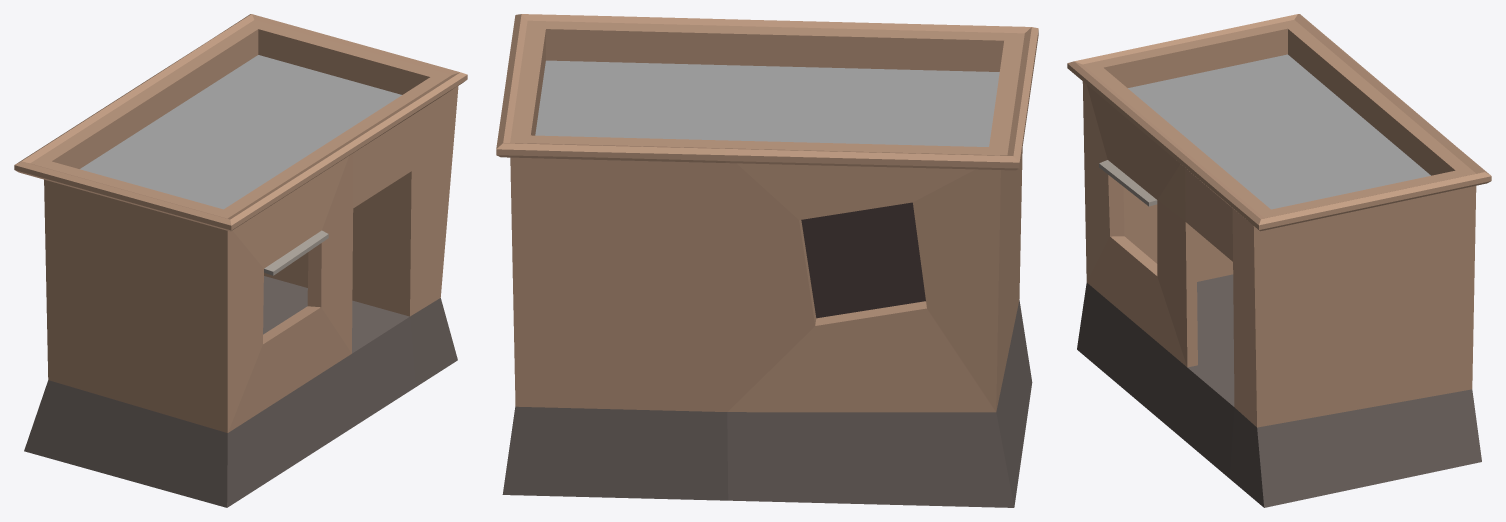
Rendered from house3.fbx.
The picture shows the model from 3 angles, left to right: view 1: azimuth 30°, elevation 25°; view 2: azimuth 150°, elevation 25°; view 3: azimuth 270°, elevation 25°; orthographic projection. The views are drawn at different scales.
Parts seen in each view (by area): view 1: pCube24; view 2: pCube24; view 3: pCube24.
Boxes of the visible parts, box(x1,y1,x2,y2) form: pCube24: box(14, 14, 467, 507); pCube24: box(496, 14, 1038, 507); pCube24: box(1067, 14, 1491, 507).
Size of the model in its own units: 19.04 by 12.15 by 16.17.
